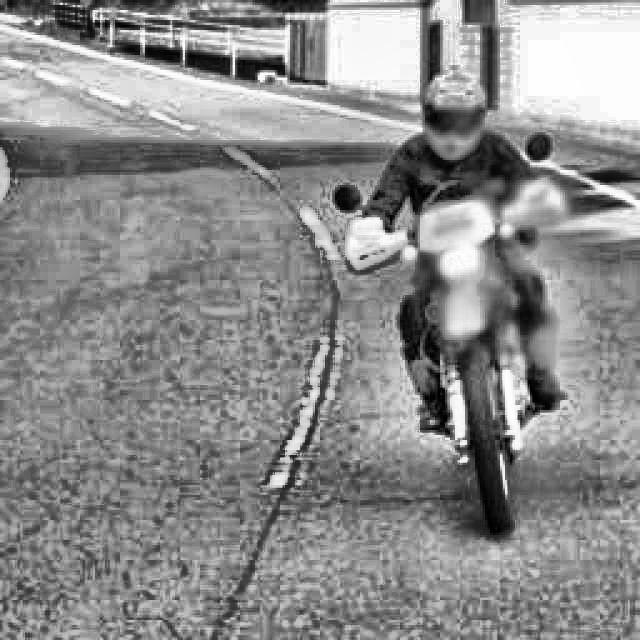motorcycle: (292, 122, 588, 536)
